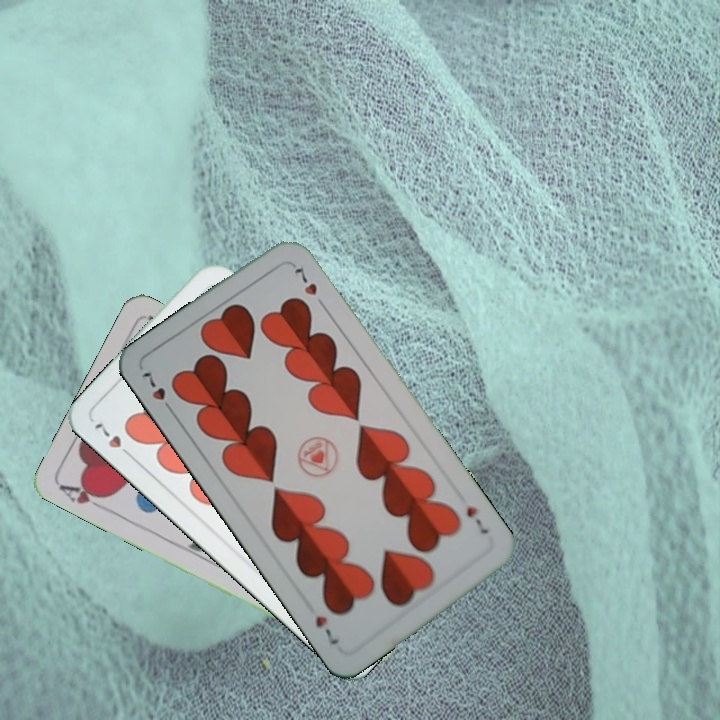H7: (90, 418, 137, 462), (137, 367, 178, 417), (462, 502, 491, 537)
HA: (55, 478, 112, 514)
